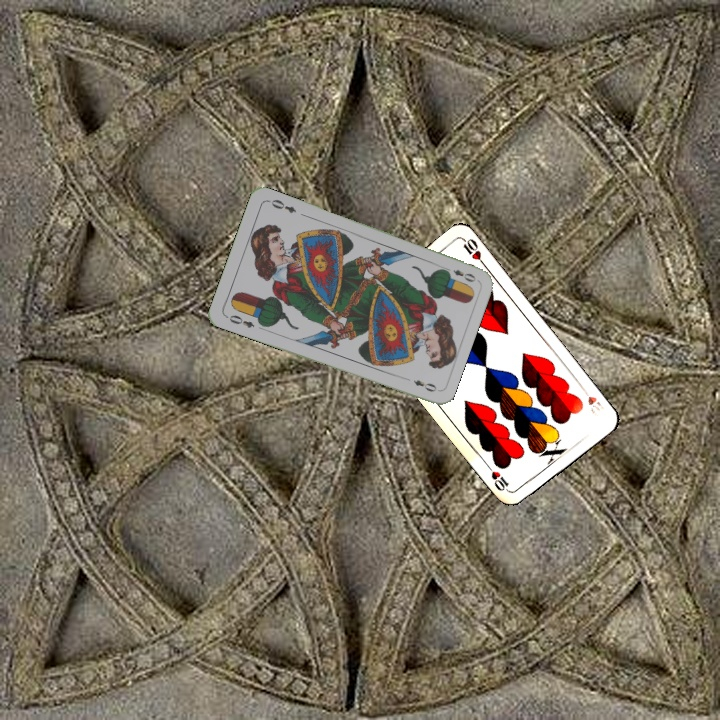EO: (440, 263, 478, 285), (222, 311, 257, 331)
H10: (577, 383, 607, 416)
